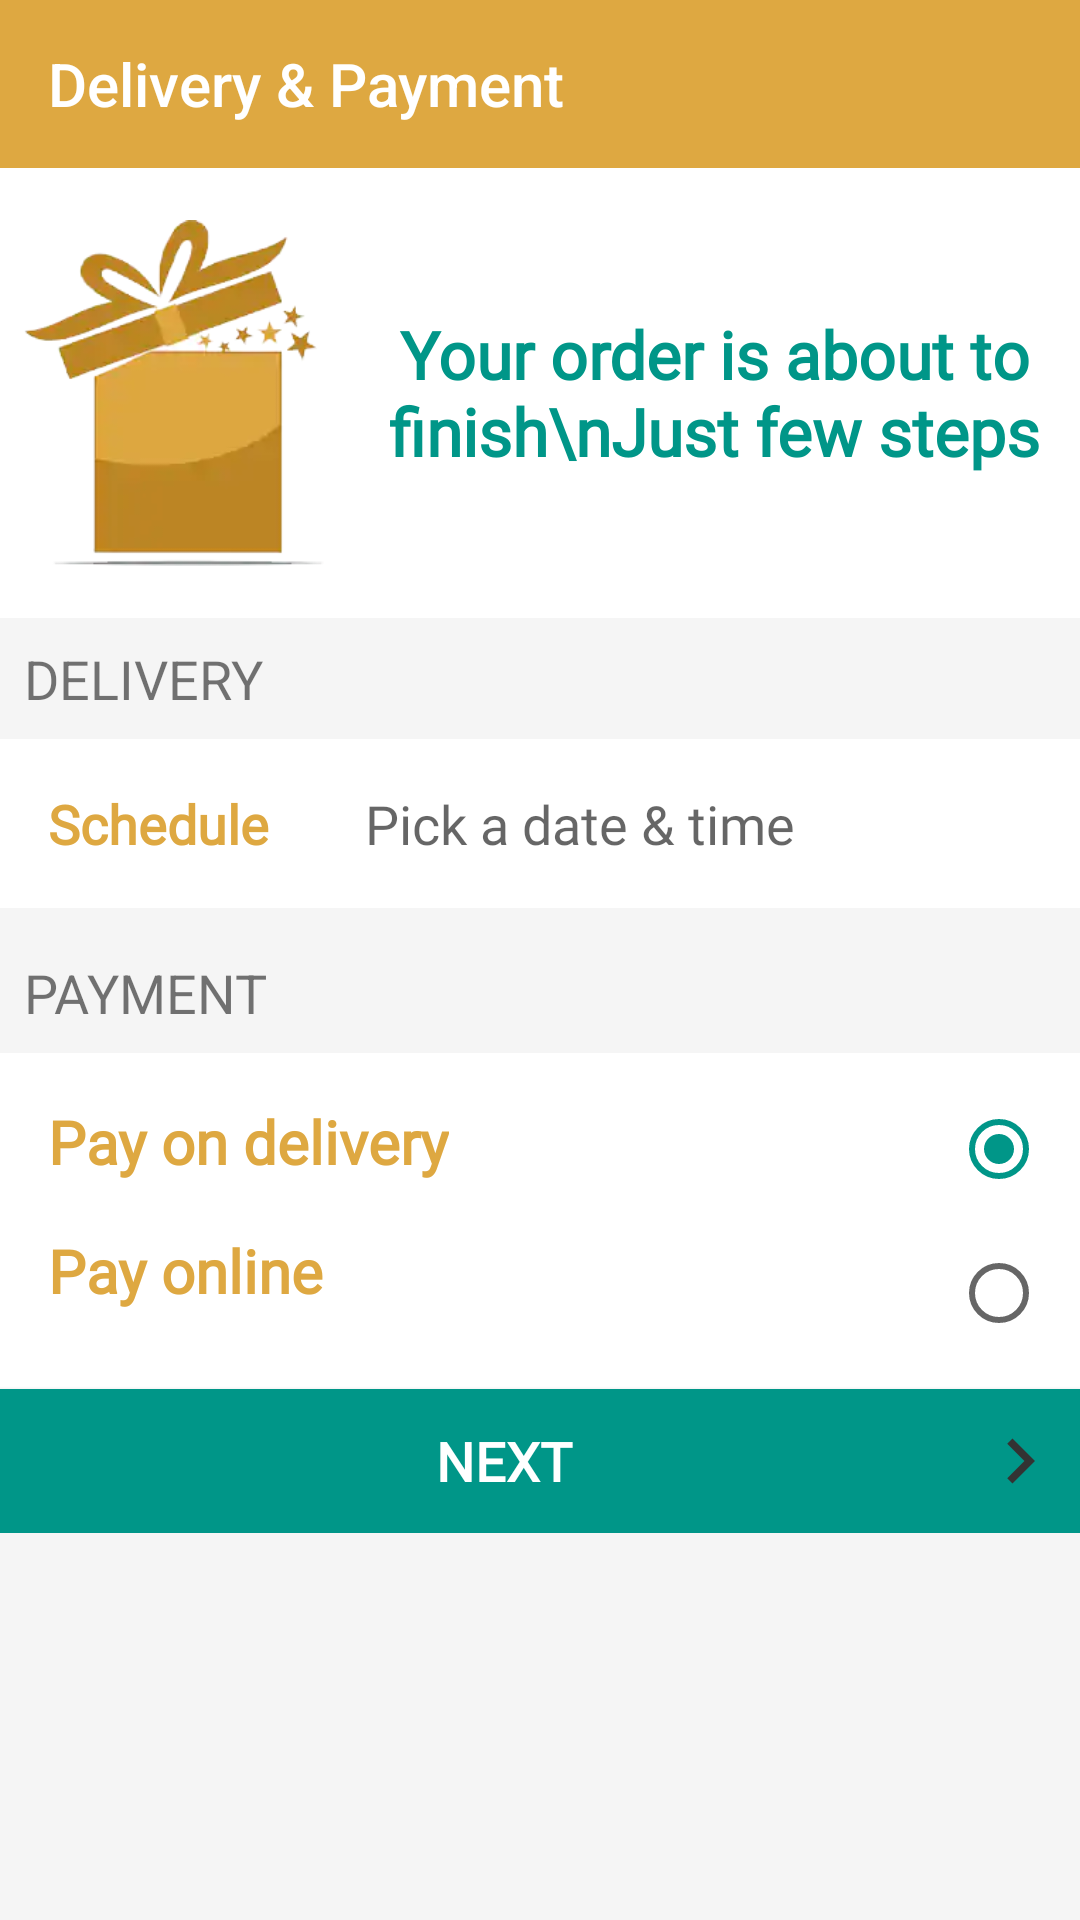

Icons on this 1080x1920 Android screen, each with its box as (x1, y1, x2, y2):
gift box: (25, 220, 316, 566)
